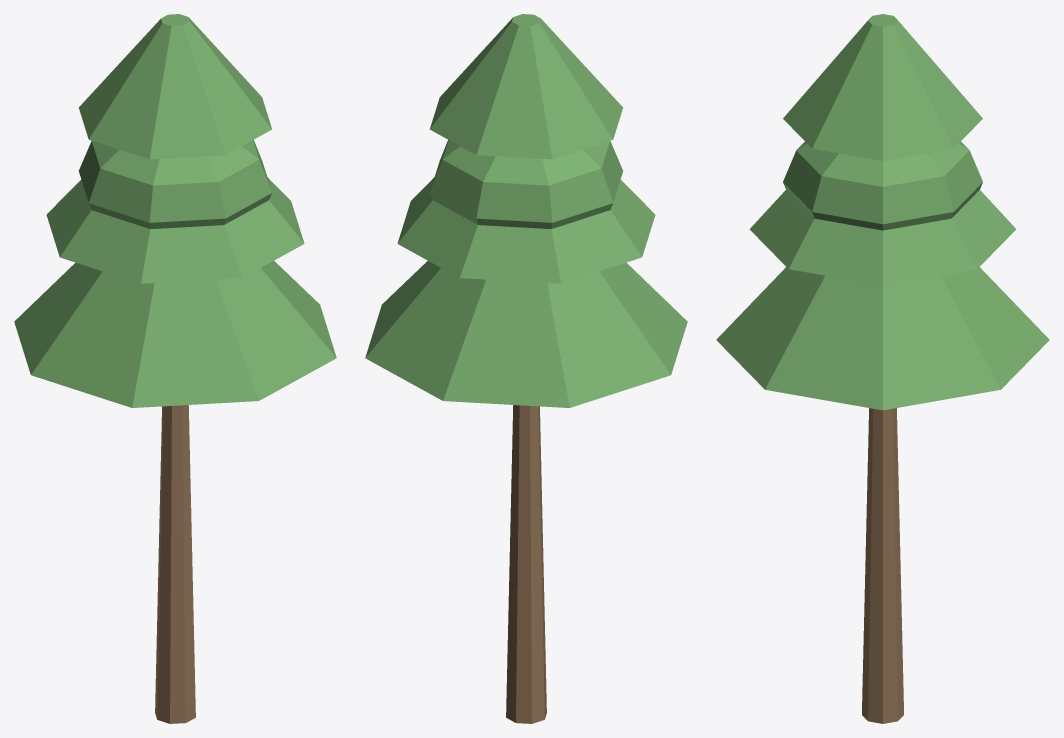
File: deciduous_1.glb
3 renders of one model, left to right at view 1: azimuth 30°, elevation 25°; view 2: azimuth 150°, elevation 25°; view 3: azimuth 270°, elevation 25°, orthographic.
Parts seen in each view (by area): view 1: deciduous_1_foliage_0, deciduous_1_foliage_2, deciduous_1_foliage_1, deciduous_1_top, deciduous_1_trunk; view 2: deciduous_1_foliage_0, deciduous_1_foliage_2, deciduous_1_foliage_1, deciduous_1_top, deciduous_1_trunk; view 3: deciduous_1_foliage_0, deciduous_1_foliage_2, deciduous_1_foliage_1, deciduous_1_top, deciduous_1_trunk.
Part boxes in pixels (x1=…): deciduous_1_foliage_0: x1=14, y1=261, x2=336, y2=407; deciduous_1_foliage_2: x1=78, y1=14, x2=272, y2=159; deciduous_1_foliage_1: x1=46, y1=177, x2=304, y2=283; deciduous_1_top: x1=79, y1=140, x2=271, y2=228; deciduous_1_trunk: x1=155, y1=405, x2=195, y2=723; deciduous_1_foliage_0: x1=365, y1=261, x2=687, y2=407; deciduous_1_foliage_2: x1=429, y1=14, x2=623, y2=159; deciduous_1_foliage_1: x1=397, y1=177, x2=655, y2=283; deciduous_1_top: x1=430, y1=140, x2=622, y2=228; deciduous_1_trunk: x1=506, y1=405, x2=546, y2=723; deciduous_1_foliage_0: x1=716, y1=267, x2=1049, y2=410; deciduous_1_foliage_2: x1=783, y1=14, x2=982, y2=160; deciduous_1_foliage_1: x1=749, y1=190, x2=1016, y2=285; deciduous_1_top: x1=783, y1=141, x2=982, y2=230; deciduous_1_trunk: x1=862, y1=408, x2=903, y2=723.
Bounding box in the file's own units: 2.46 × 5.65 × 2.46.
